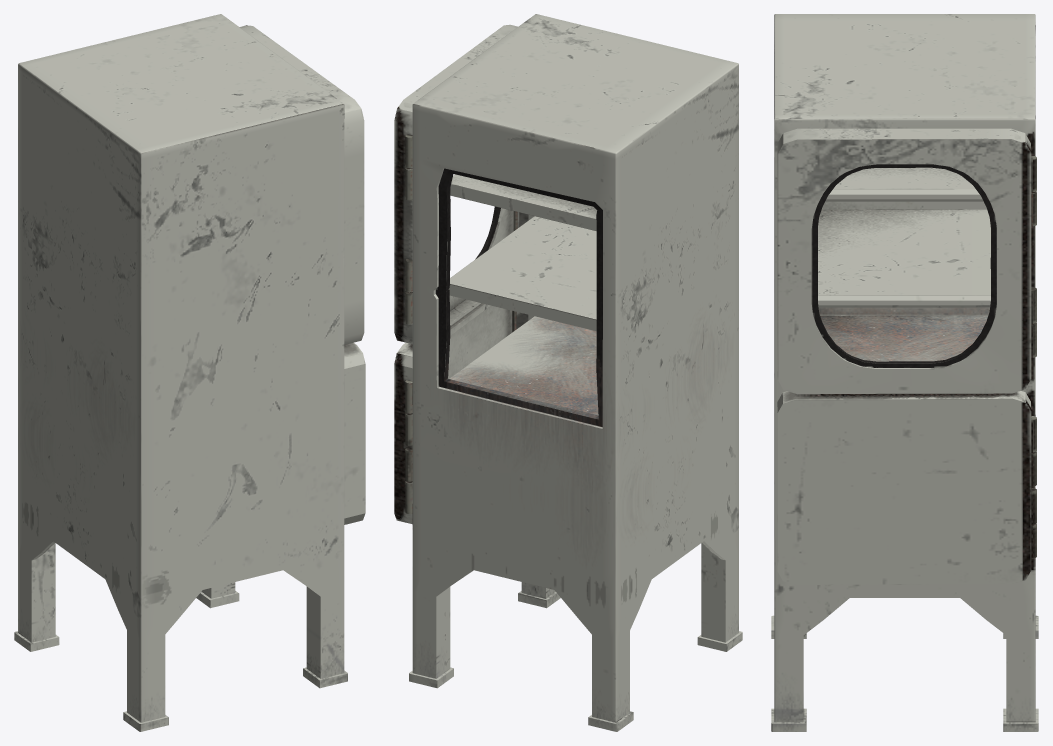
Rendered from MedicalCabinet_MeshVariation1.fbx.
3 views of the same model, side by side, from view 1: azimuth 30°, elevation 25°; view 2: azimuth 150°, elevation 25°; view 3: azimuth 270°, elevation 25° (orthographic). The views are drawn at different scales.
Visible parts, largest first — view 1: MedicalCabinet_MeshVariant1; view 2: MedicalCabinet_MeshVariant1; view 3: MedicalCabinet_MeshVariant1.
Part boxes in pixels (<box>): MedicalCabinet_MeshVariant1: <box>14,14,365,731</box>; MedicalCabinet_MeshVariant1: <box>394,14,742,731</box>; MedicalCabinet_MeshVariant1: <box>771,14,1038,731</box>.
Size of the model in its own units: 63.02 by 152 by 60.25.
